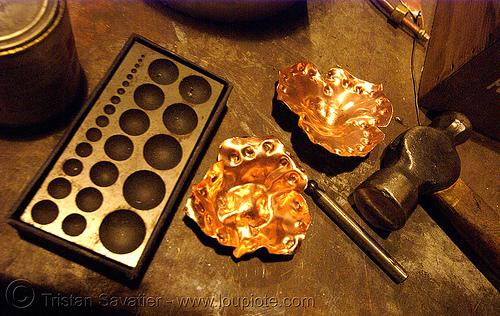hammer: (349, 108, 499, 275)
